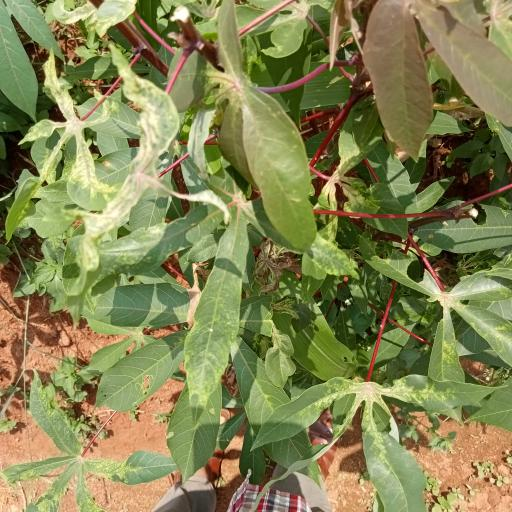Cassava_Healthy: (166, 196, 260, 402), (388, 264, 512, 412)
